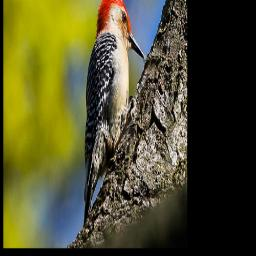Woodpecker: (84, 0, 148, 223)
